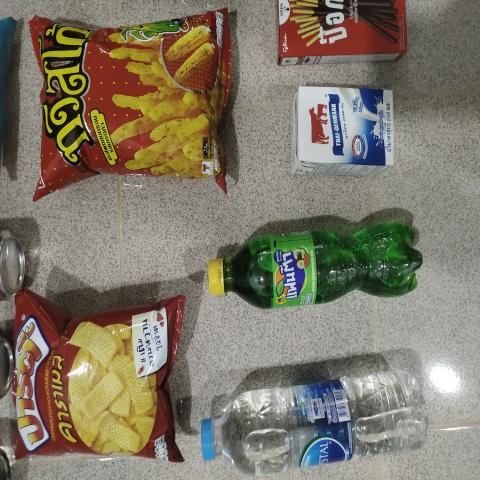crystal: (200, 371, 441, 462)
fanta_green: (206, 217, 435, 310)
party_red: (19, 298, 182, 454)
thai_denmark: (295, 85, 401, 173)
twisco: (33, 22, 233, 183)
